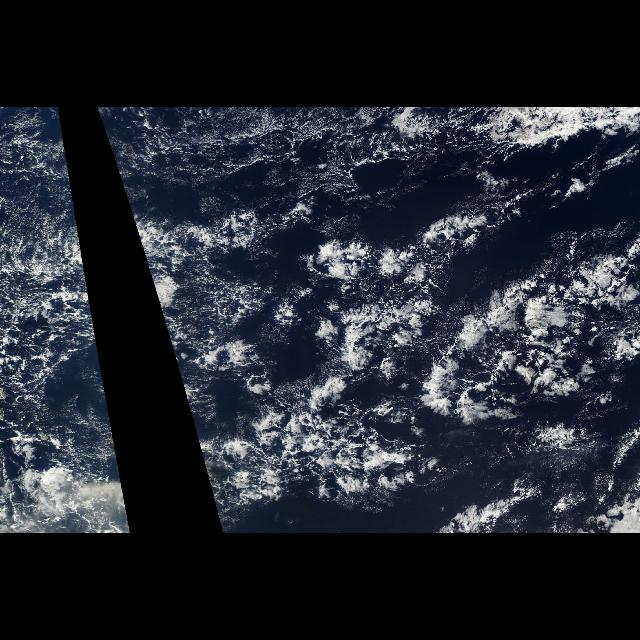Fish: (188, 404, 440, 496)
Flower: (298, 230, 640, 530)
Gravel: (164, 135, 500, 517)
Sugar: (0, 107, 120, 475), (96, 107, 464, 227)
